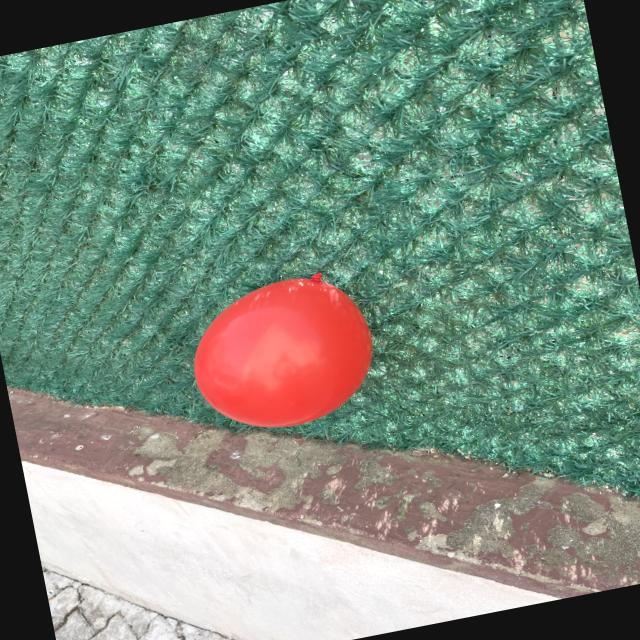balloon: (195, 276, 372, 427)
